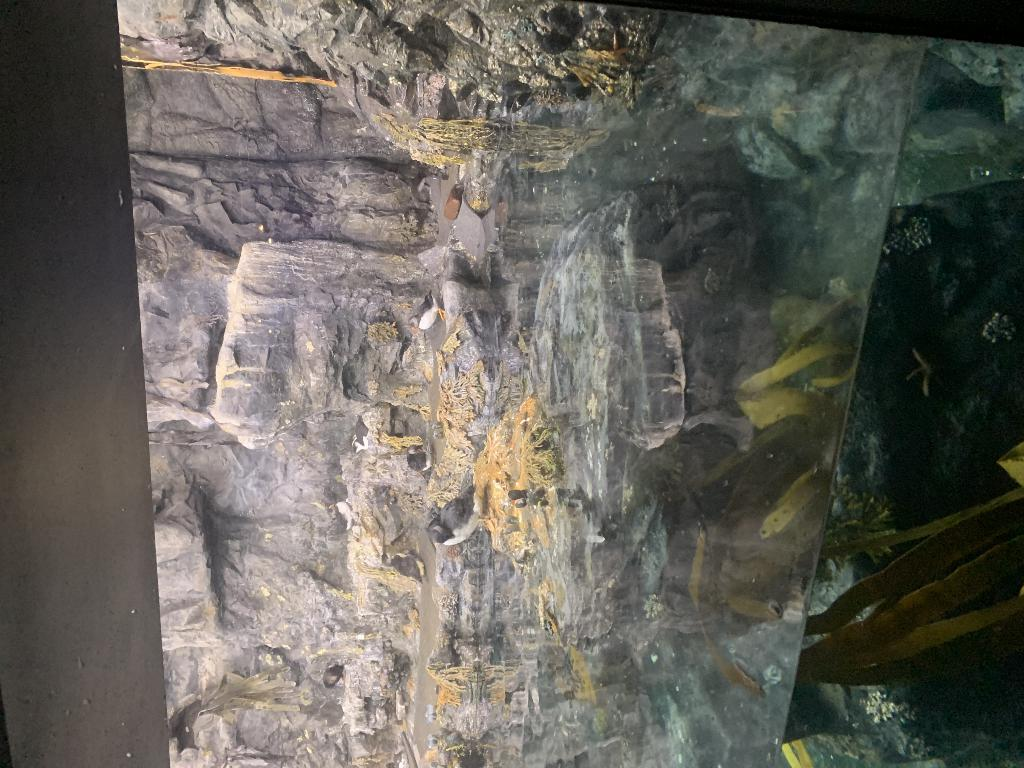puffin: (422, 484, 498, 546), (406, 288, 448, 334), (344, 418, 372, 456), (402, 443, 436, 471)
